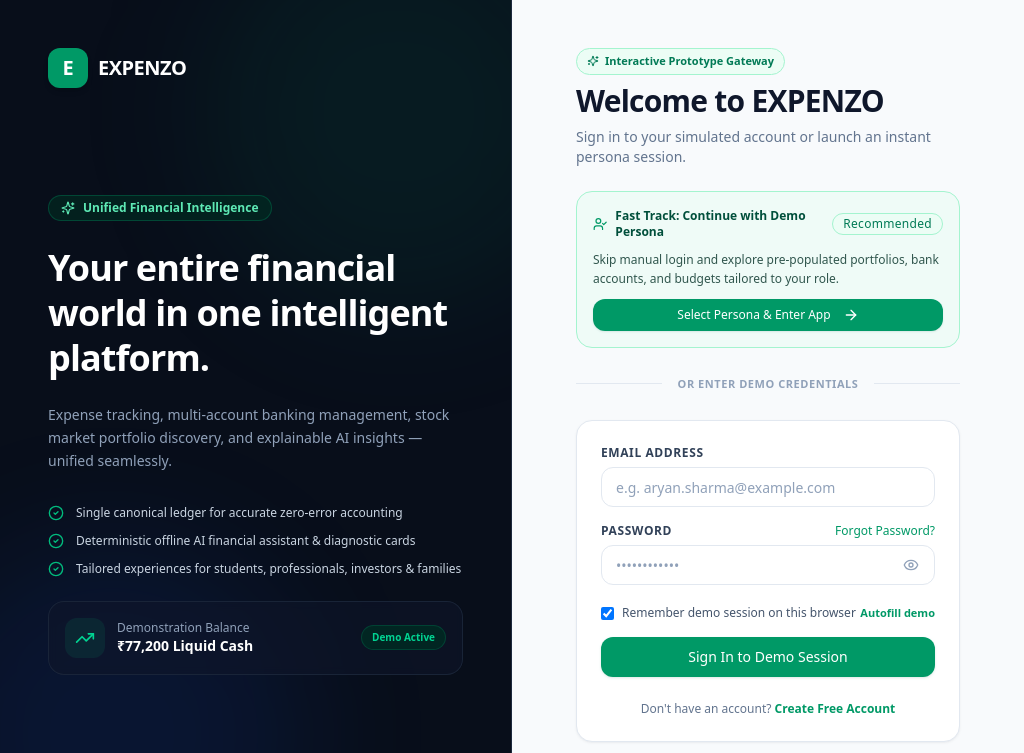
Phase 3 Authentication, Demo Session & Onboarding Tests › allows launching persona modal and quick-switching to Student profile
Note: Open persona switcher
Click the button "Select Persona & Enter App".
click(768, 314)  # box 593,298 -> 943,330
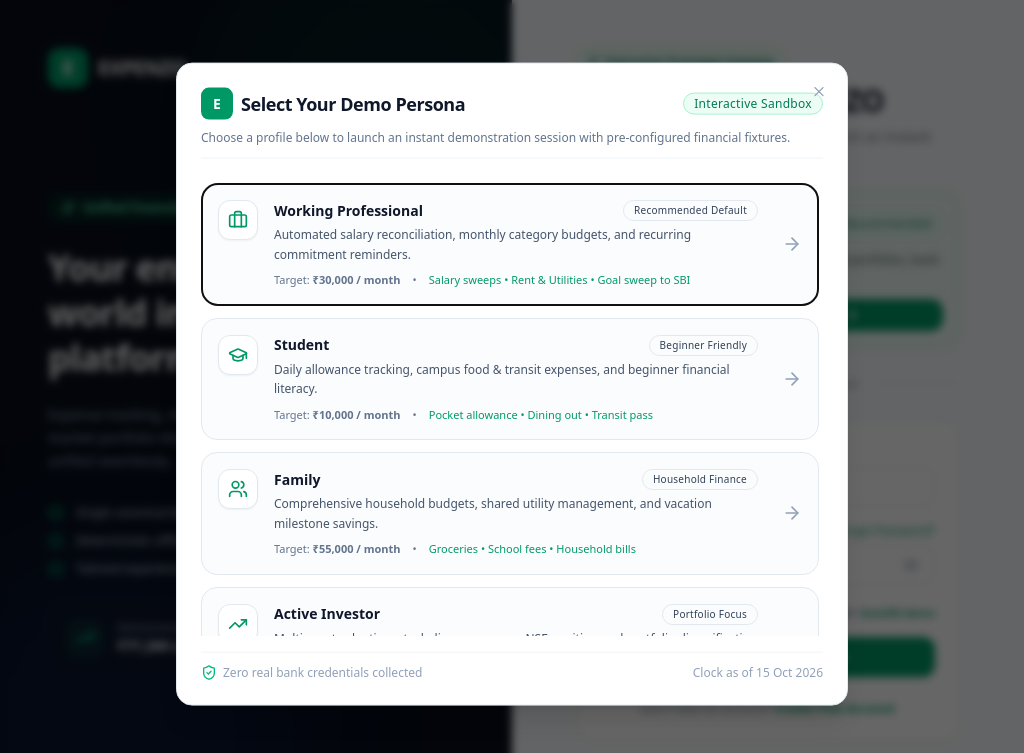
Result: the heading "Select Your Demo Persona" is shown at 241,95 -> 465,113
Result: the text "Working Professional" is shown at 274,200 -> 423,220
Result: the text "Student" is shown at 274,335 -> 329,355
Click the button "Student".
click(510, 378)  # box 201,317 -> 819,440
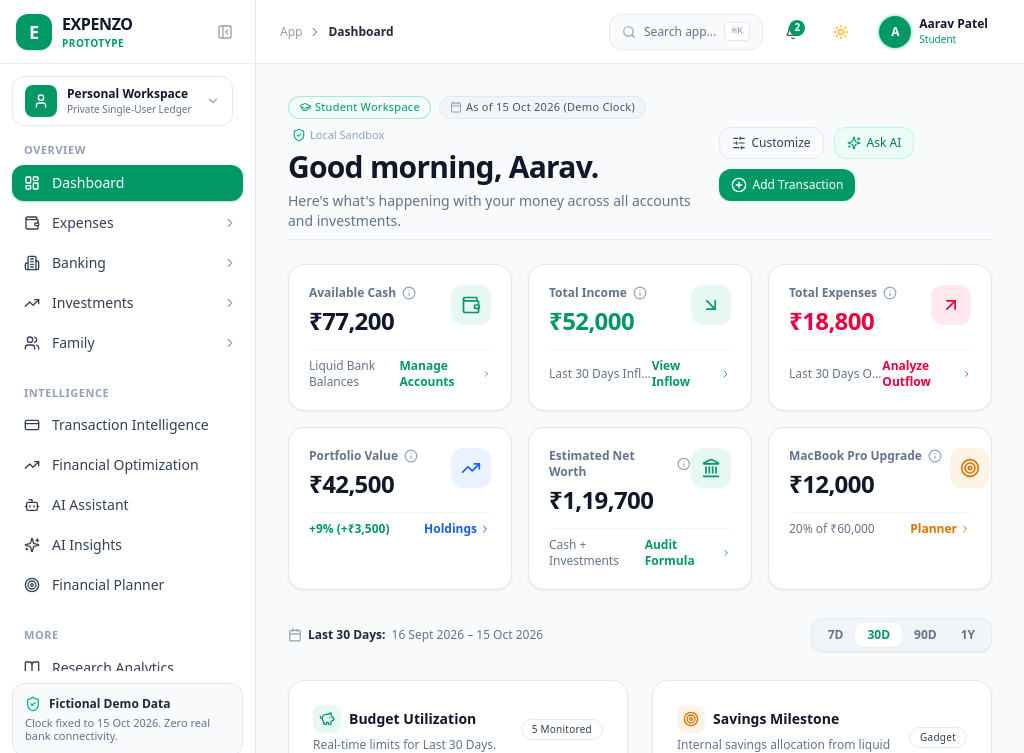
Result: the text "Aarav Patel" is shown at 919,16 -> 988,32
